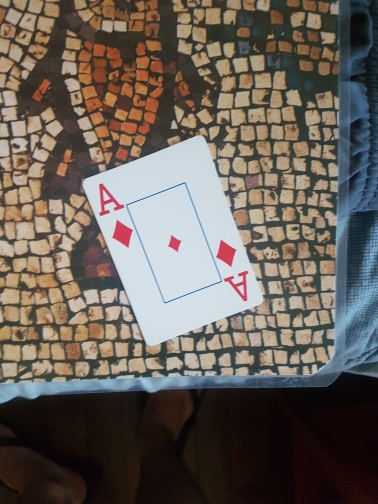ace: (84, 133, 264, 347)
